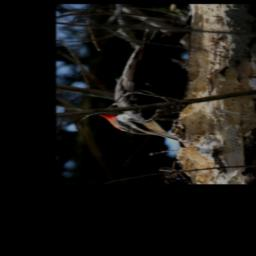Woodpecker: (98, 10, 190, 141)
